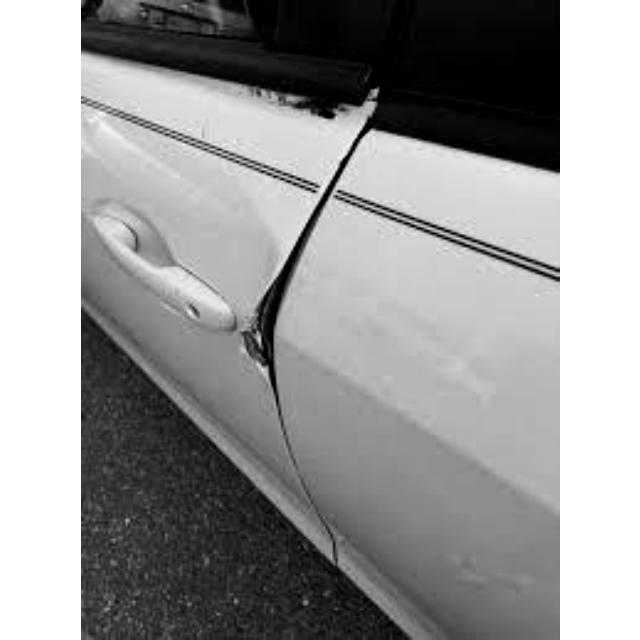doorouter-dent: (181, 215, 321, 419)
